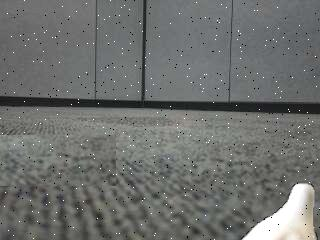Garlic: (238, 182, 318, 240)
